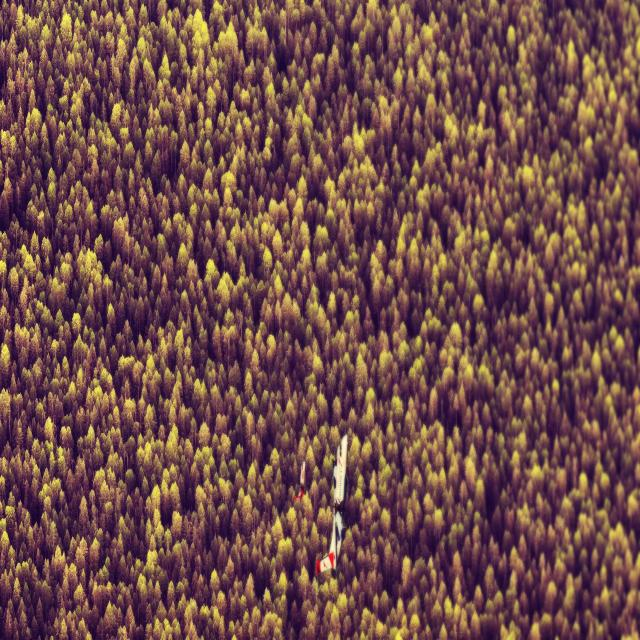airplane: (315, 433, 348, 576), (292, 460, 306, 502)
